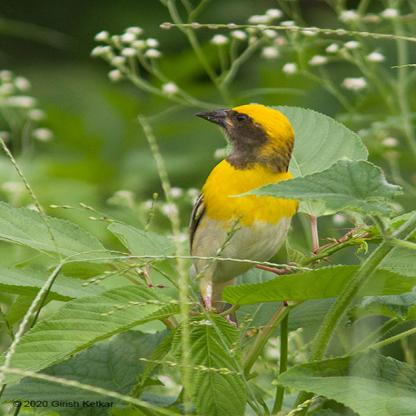Burung: (190, 104, 297, 316)
